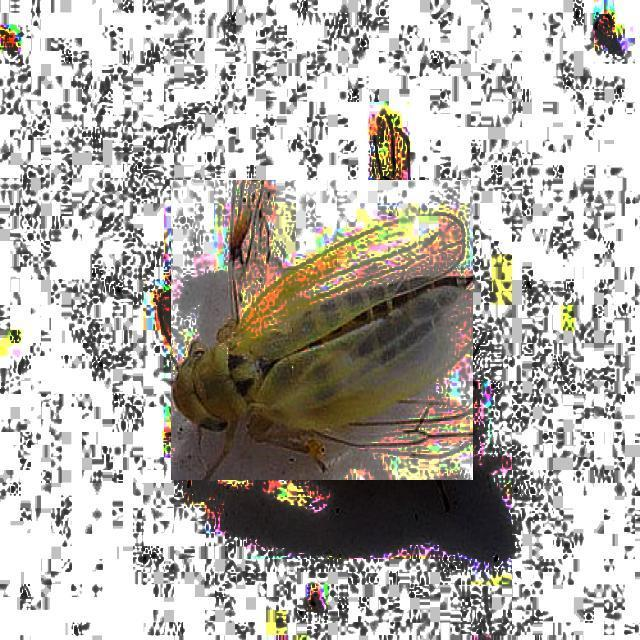green-leafhopper: (171, 180, 473, 480)
